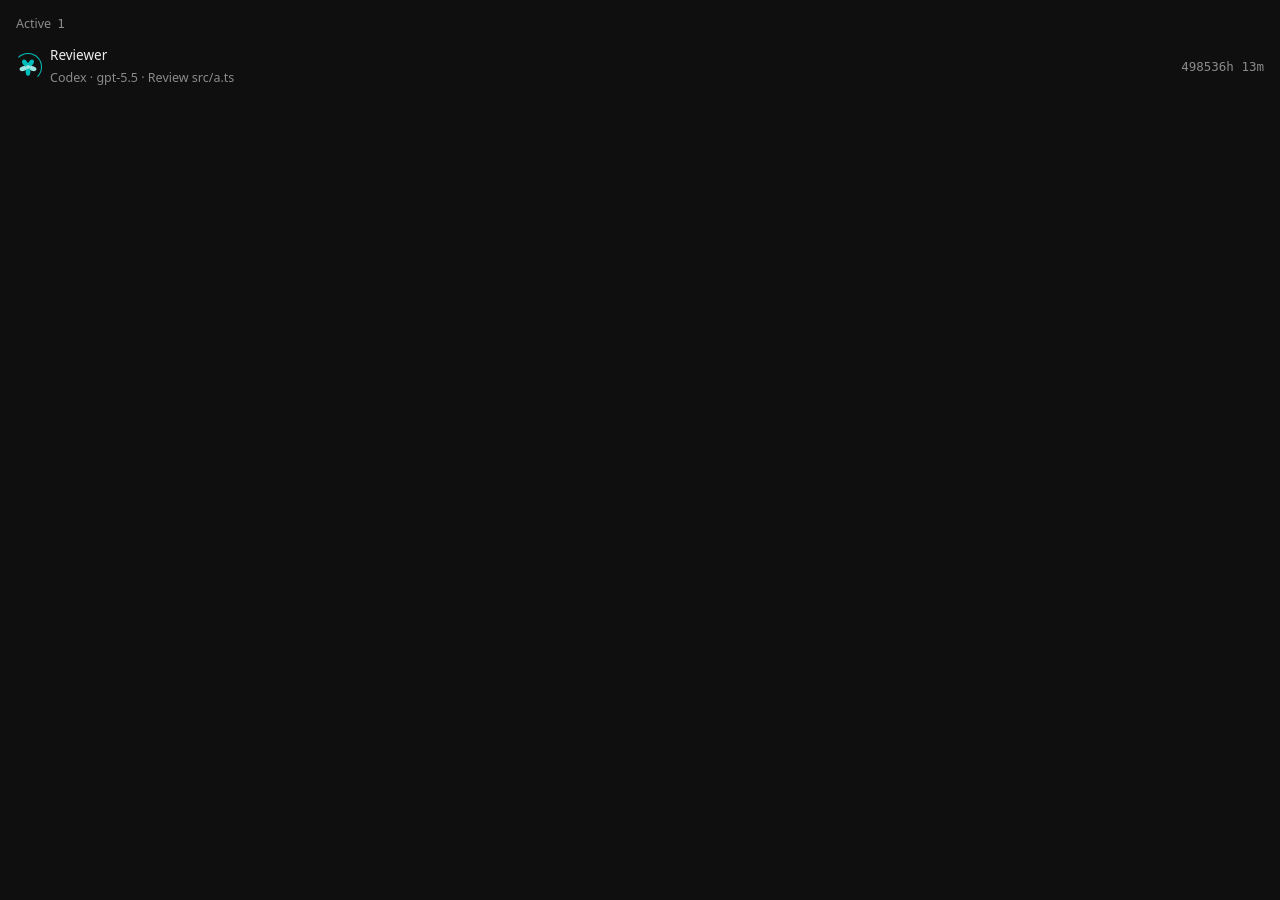
Test: a subagent opened from the Agents tab › follows the open subagent’s row as it changes
Click the button "Reviewer Codex · gpt-5.5 · Review src/a.ts 498536h 13m".
click(79, 55)  # box [8,39,1272,94]
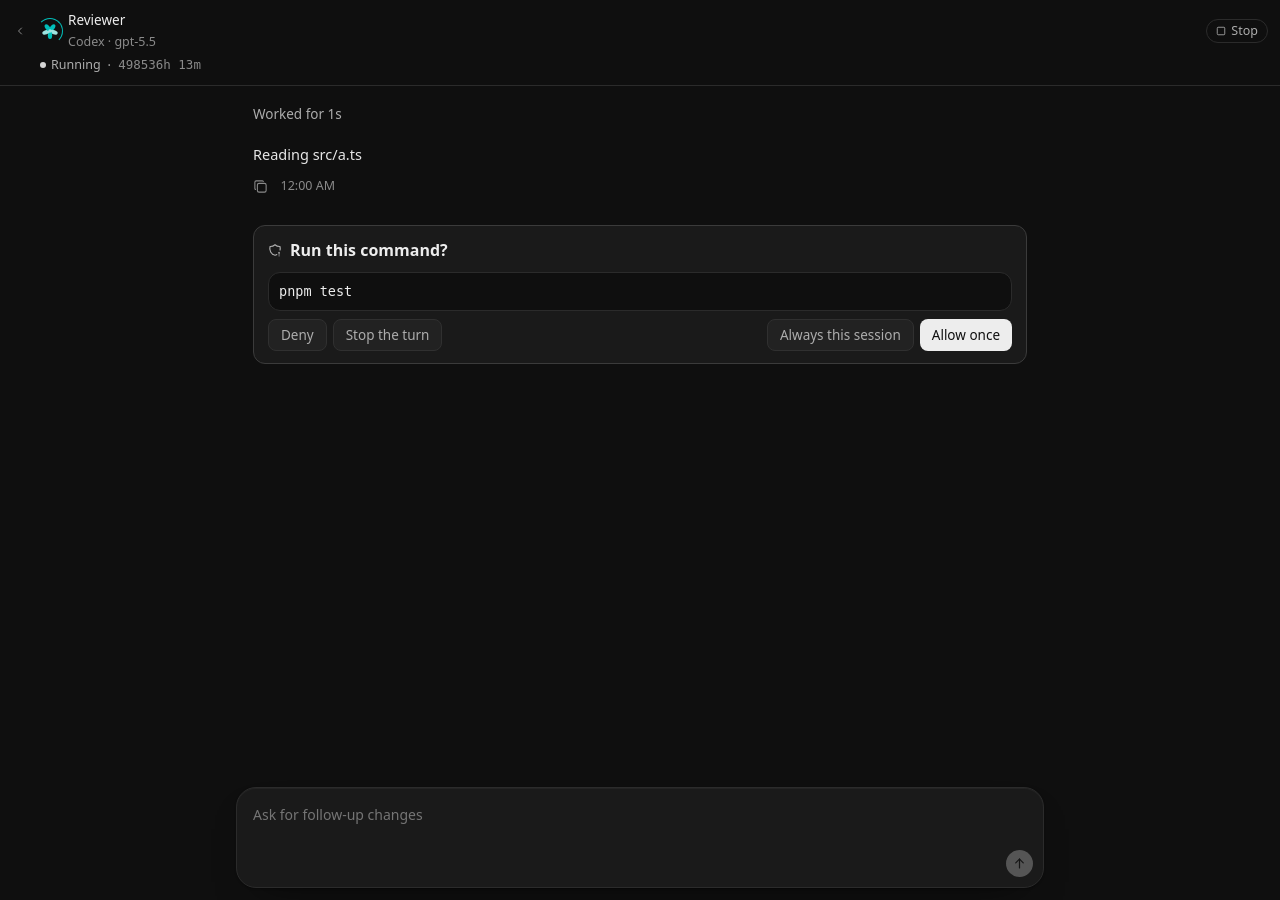
Result: the text "Reading src/a.ts" is shown at [253,144,362,164]
